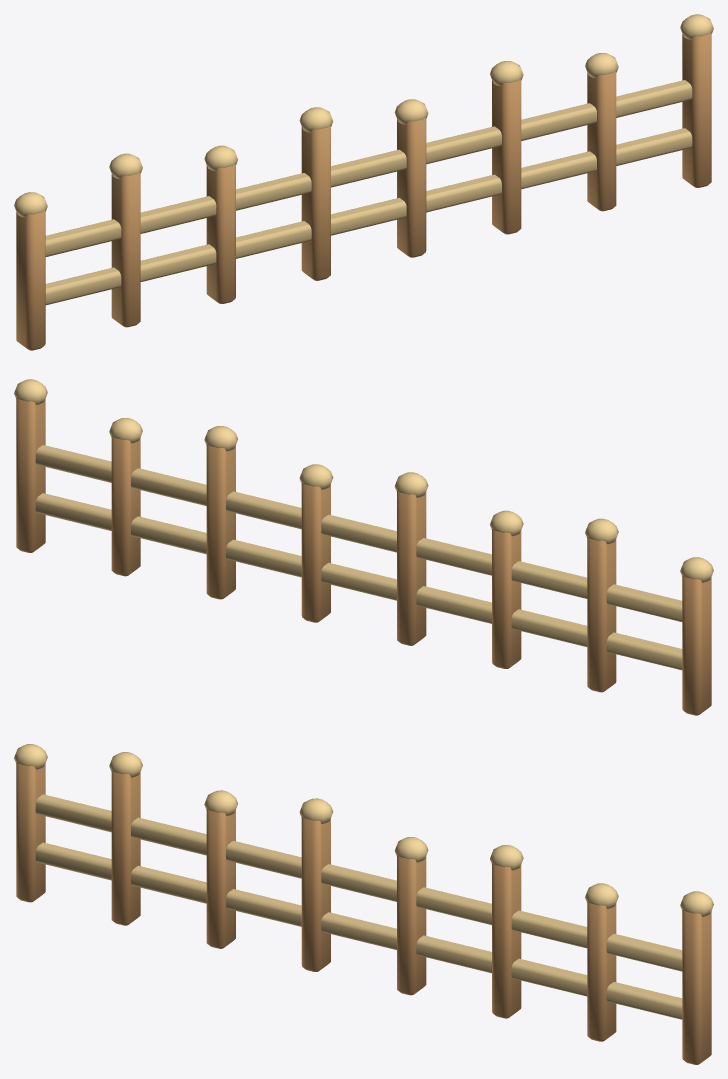
The model's file is fence_2.glb.
3 renders of one model, top to bottom at view 1: azimuth 30°, elevation 25°; view 2: azimuth 150°, elevation 25°; view 3: azimuth 330°, elevation 25°, orthographic.
Visible parts, largest first — view 1: Fence; view 2: Fence; view 3: Fence.
Boxes of the visible parts, x1,y1,x2,y2 form: Fence: (14, 14, 713, 350); Fence: (14, 379, 713, 715); Fence: (14, 744, 713, 1064).
Bounding box in the file's own units: 5.75 × 1.31 × 0.22.
